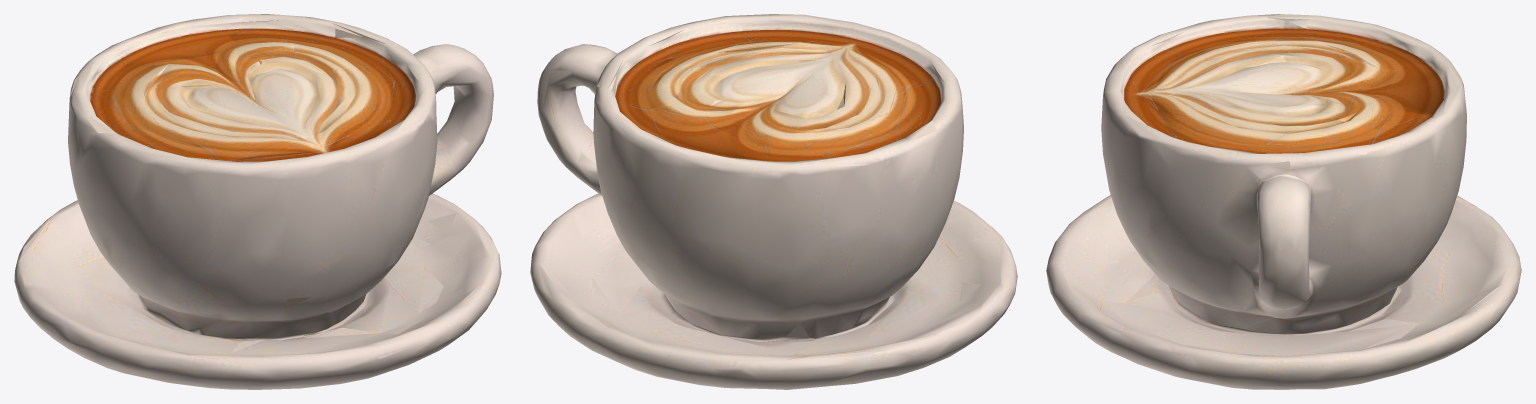
The model's file is cup_latte.gltf.
3 renders of one model, left to right at view 1: azimuth 30°, elevation 25°; view 2: azimuth 150°, elevation 25°; view 3: azimuth 270°, elevation 25°, orthographic.
Parts seen in each view (by area): view 1: cup_latte; view 2: cup_latte; view 3: cup_latte.
Boxes of the visible parts, x1,y1,x2,y2 form: cup_latte: (14, 14, 501, 389); cup_latte: (530, 14, 1017, 389); cup_latte: (1046, 14, 1521, 389).
Bounding box in the file's own units: 1 × 0.4992 × 0.9352.
1 material, 1 textured.
